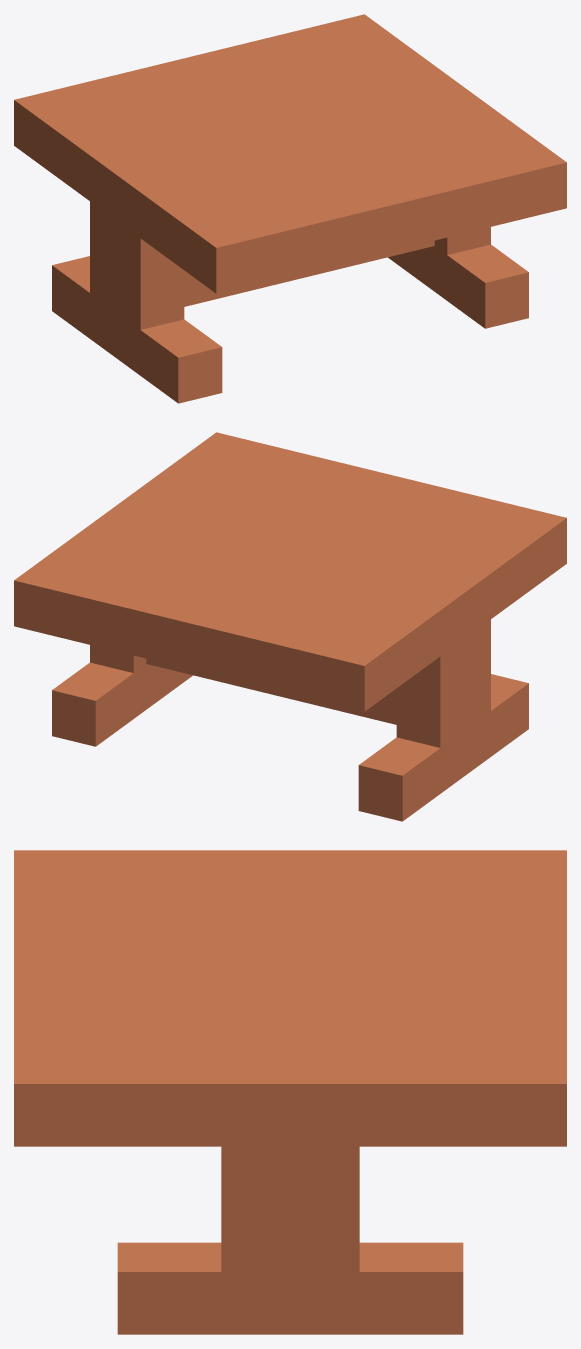
File: wood-table.glb
3 views of the same model, one above another, from view 1: azimuth 30°, elevation 25°; view 2: azimuth 150°, elevation 25°; view 3: azimuth 270°, elevation 25° (orthographic). The views are drawn at different scales.
Parts seen in each view (by area): view 1: generated(Clone); view 2: generated(Clone); view 3: generated(Clone).
Boxes of the visible parts, x1,y1,x2,y2 form: generated(Clone): (14, 14, 566, 403); generated(Clone): (14, 432, 566, 821); generated(Clone): (14, 850, 566, 1334).
Size of the model in its own units: 8 by 4 by 8.
Materials: 1 (1 with a texture image).
